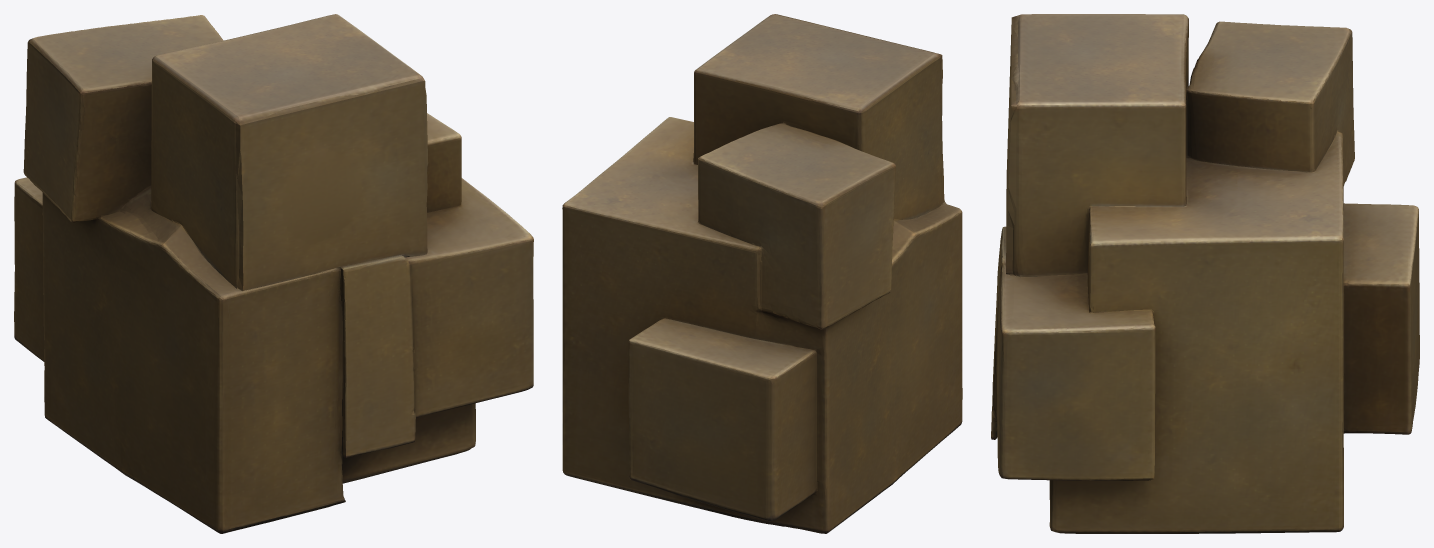
The picture shows the model from 3 angles, left to right: view 1: azimuth 30°, elevation 25°; view 2: azimuth 150°, elevation 25°; view 3: azimuth 270°, elevation 25°; orthographic projection. The views are drawn at different scales.
Visible parts, largest first — view 1: world; view 2: world; view 3: world.
Boxes of the visible parts, x1,y1,x2,y2 form: world: [14, 14, 533, 533]; world: [562, 14, 962, 533]; world: [991, 14, 1419, 533].
Bounding box in the file's own units: 0.107 × 0.12 × 0.1158.
1 material, 1 textured.
